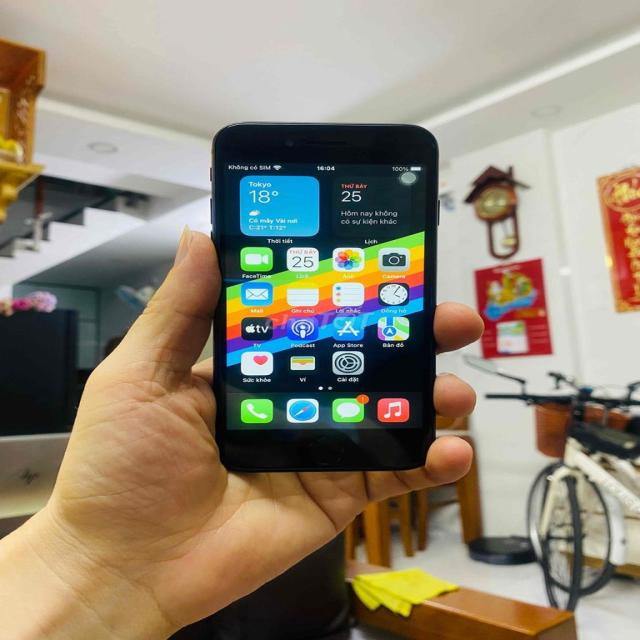gen_7_8: (198, 116, 452, 481)
